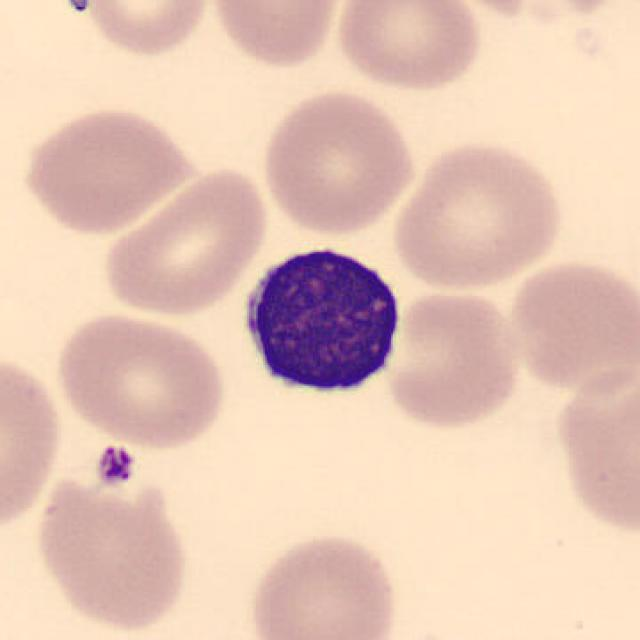Lymphocyte: (230, 231, 412, 407)
Platelets: (92, 443, 137, 490)
RBC: (386, 136, 569, 292), (28, 467, 194, 635), (98, 164, 272, 319), (50, 307, 231, 451), (16, 102, 204, 238), (258, 86, 418, 236), (380, 284, 524, 434), (502, 254, 638, 391), (244, 527, 404, 640), (549, 352, 640, 540), (331, 0, 485, 95), (0, 346, 68, 538), (205, 0, 346, 71), (57, 0, 215, 60)
